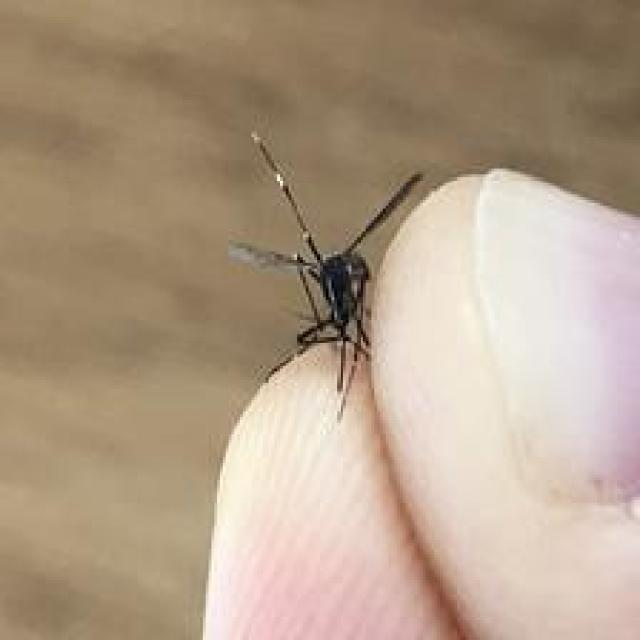Aedes albopictus: (227, 128, 424, 423)
